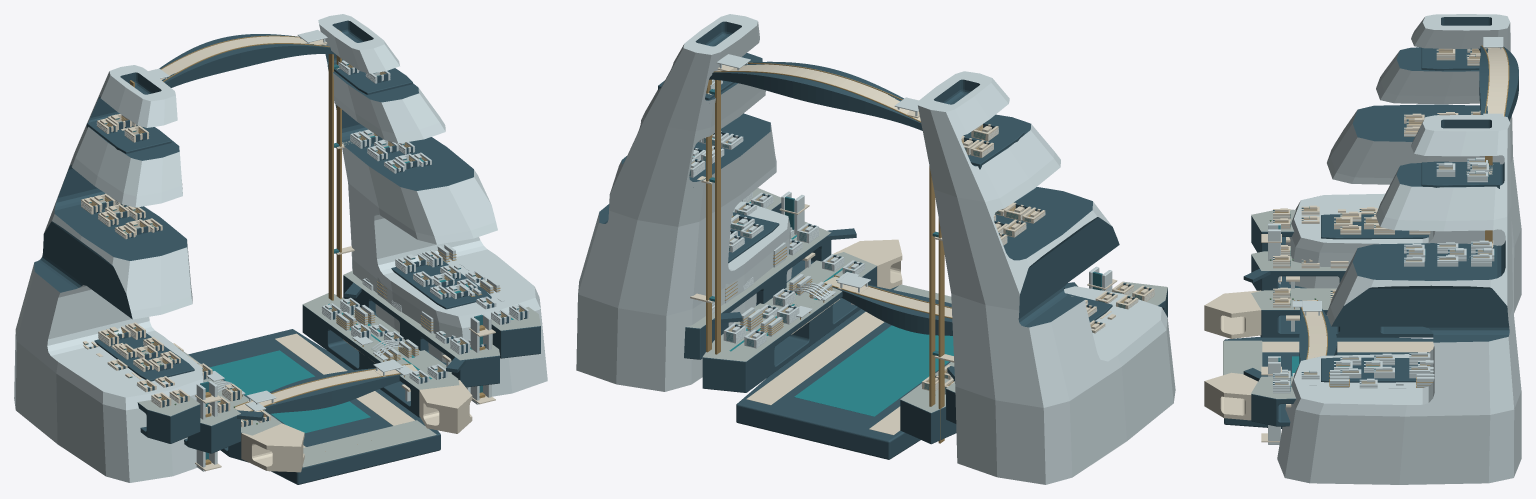
The picture shows the model from 3 angles, left to right: view 1: azimuth 30°, elevation 25°; view 2: azimuth 150°, elevation 25°; view 3: azimuth 270°, elevation 25°; orthographic projection. The views are drawn at different scales.
Parts seen in each view (by area): view 1: WEST_GARDEN_CONTINUOUS_INHABITED_ESCARPMENT, EAST_WATER_CONTINUOUS_INHABITED_ESCARPMENT, LOWER_CIVIC_GROUND, Central_basin, UPPER_CIVIC_VESSEL_sculpted_civic_vessel, EAST_WATER_T0_inhabited_landform, Southern_civic_forecourt, WEST_GARDEN_PUBLIC_PROW, LOWER_BOULEVARD_sculpted_civic_vessel, EAST_WATER_T1_inhabited_landform, EAST_WATER_PUBLIC_PROW, EAST_WATER_T0_walkable_ground (+14 smaller); view 2: WEST_GARDEN_CONTINUOUS_INHABITED_ESCARPMENT, EAST_WATER_CONTINUOUS_INHABITED_ESCARPMENT, LOWER_CIVIC_GROUND, Central_basin, EAST_WATER_T0_inhabited_landform, UPPER_CIVIC_VESSEL_sculpted_civic_vessel, Lower_public_promenade.001, EAST_WATER_T0_walkable_ground, EAST_WATER_T1_inhabited_landform, LOWER_BOULEVARD_sculpted_civic_vessel, EAST_WATER_PUBLIC_PROW, UPPER_CIVIC_VESSEL_public_street (+10 smaller); view 3: EAST_WATER_CONTINUOUS_INHABITED_ESCARPMENT, WEST_GARDEN_CONTINUOUS_INHABITED_ESCARPMENT, WEST_GARDEN_PUBLIC_PROW, WEST_GARDEN_T0_inhabited_landform, EAST_WATER_PUBLIC_PROW, LOWER_CIVIC_GROUND, Lower_public_promenade, EAST_WATER_civic_sky_court.002, Southern_civic_forecourt, UPPER_CIVIC_VESSEL_public_street, UPPER_CIVIC_VESSEL_sculpted_civic_vessel, WEST_GARDEN_civic_sky_court (+14 smaller).
Part boxes in pixels (x1,y1,x2,y2): WEST_GARDEN_CONTINUOUS_INHABITED_ESCARPMENT: (14, 65, 203, 482); EAST_WATER_CONTINUOUS_INHABITED_ESCARPMENT: (318, 14, 547, 396); LOWER_CIVIC_GROUND: (188, 329, 440, 484); Central_basin: (209, 350, 370, 433); UPPER_CIVIC_VESSEL_sculpted_civic_vessel: (159, 34, 335, 87); EAST_WATER_T0_inhabited_landform: (302, 305, 420, 417); Southern_civic_forecourt: (302, 420, 436, 467); WEST_GARDEN_PUBLIC_PROW: (241, 423, 304, 472); LOWER_BOULEVARD_sculpted_civic_vessel: (252, 368, 417, 413); EAST_WATER_T1_inhabited_landform: (343, 275, 499, 387); EAST_WATER_PUBLIC_PROW: (419, 380, 472, 433); EAST_WATER_T0_walkable_ground: (302, 293, 459, 389); WEST_GARDEN_CONTINUOUS_INHABITED_ESCARPMENT: (917, 71, 1175, 484); EAST_WATER_CONTINUOUS_INHABITED_ESCARPMENT: (576, 14, 792, 391); LOWER_CIVIC_GROUND: (736, 285, 950, 459); Central_basin: (794, 325, 953, 416); EAST_WATER_T0_inhabited_landform: (702, 266, 876, 392); UPPER_CIVIC_VESSEL_sculpted_civic_vessel: (709, 61, 922, 130); Lower_public_promenade.001: (746, 312, 884, 405); EAST_WATER_T0_walkable_ground: (702, 252, 876, 361); EAST_WATER_T1_inhabited_landform: (684, 237, 831, 359); LOWER_BOULEVARD_sculpted_civic_vessel: (825, 276, 952, 335); EAST_WATER_PUBLIC_PROW: (833, 239, 902, 289); UPPER_CIVIC_VESSEL_public_street: (716, 64, 920, 120); EAST_WATER_CONTINUOUS_INHABITED_ESCARPMENT: (1277, 115, 1521, 484); WEST_GARDEN_CONTINUOUS_INHABITED_ESCARPMENT: (1285, 14, 1521, 313); WEST_GARDEN_PUBLIC_PROW: (1204, 290, 1261, 338); WEST_GARDEN_T0_inhabited_landform: (1260, 310, 1433, 337); EAST_WATER_PUBLIC_PROW: (1204, 372, 1257, 420); LOWER_CIVIC_GROUND: (1224, 336, 1433, 428); Lower_public_promenade: (1262, 341, 1433, 352); EAST_WATER_civic_sky_court.002: (1421, 161, 1499, 188); Southern_civic_forecourt: (1223, 340, 1262, 375); UPPER_CIVIC_VESSEL_public_street: (1487, 47, 1508, 116); UPPER_CIVIC_VESSEL_sculpted_civic_vessel: (1478, 46, 1518, 120); WEST_GARDEN_civic_sky_court: (1321, 214, 1428, 239).
Bounding box in the file's own units: 2740 × 1884 × 1700.
